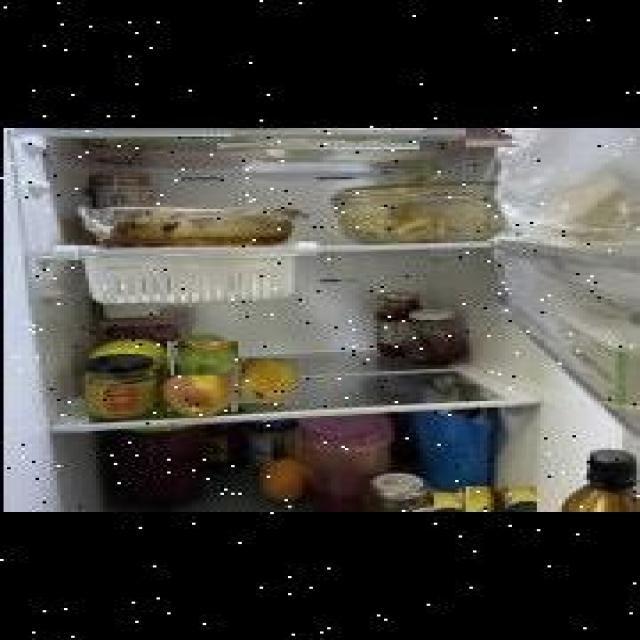apple: (163, 370, 234, 413), (231, 358, 295, 404), (167, 342, 235, 376)
banana: (213, 128, 416, 149), (213, 128, 420, 143), (462, 486, 534, 512), (430, 493, 487, 512)
cucumber: (53, 128, 224, 139), (46, 128, 228, 137)
tomato: (462, 128, 523, 147)
